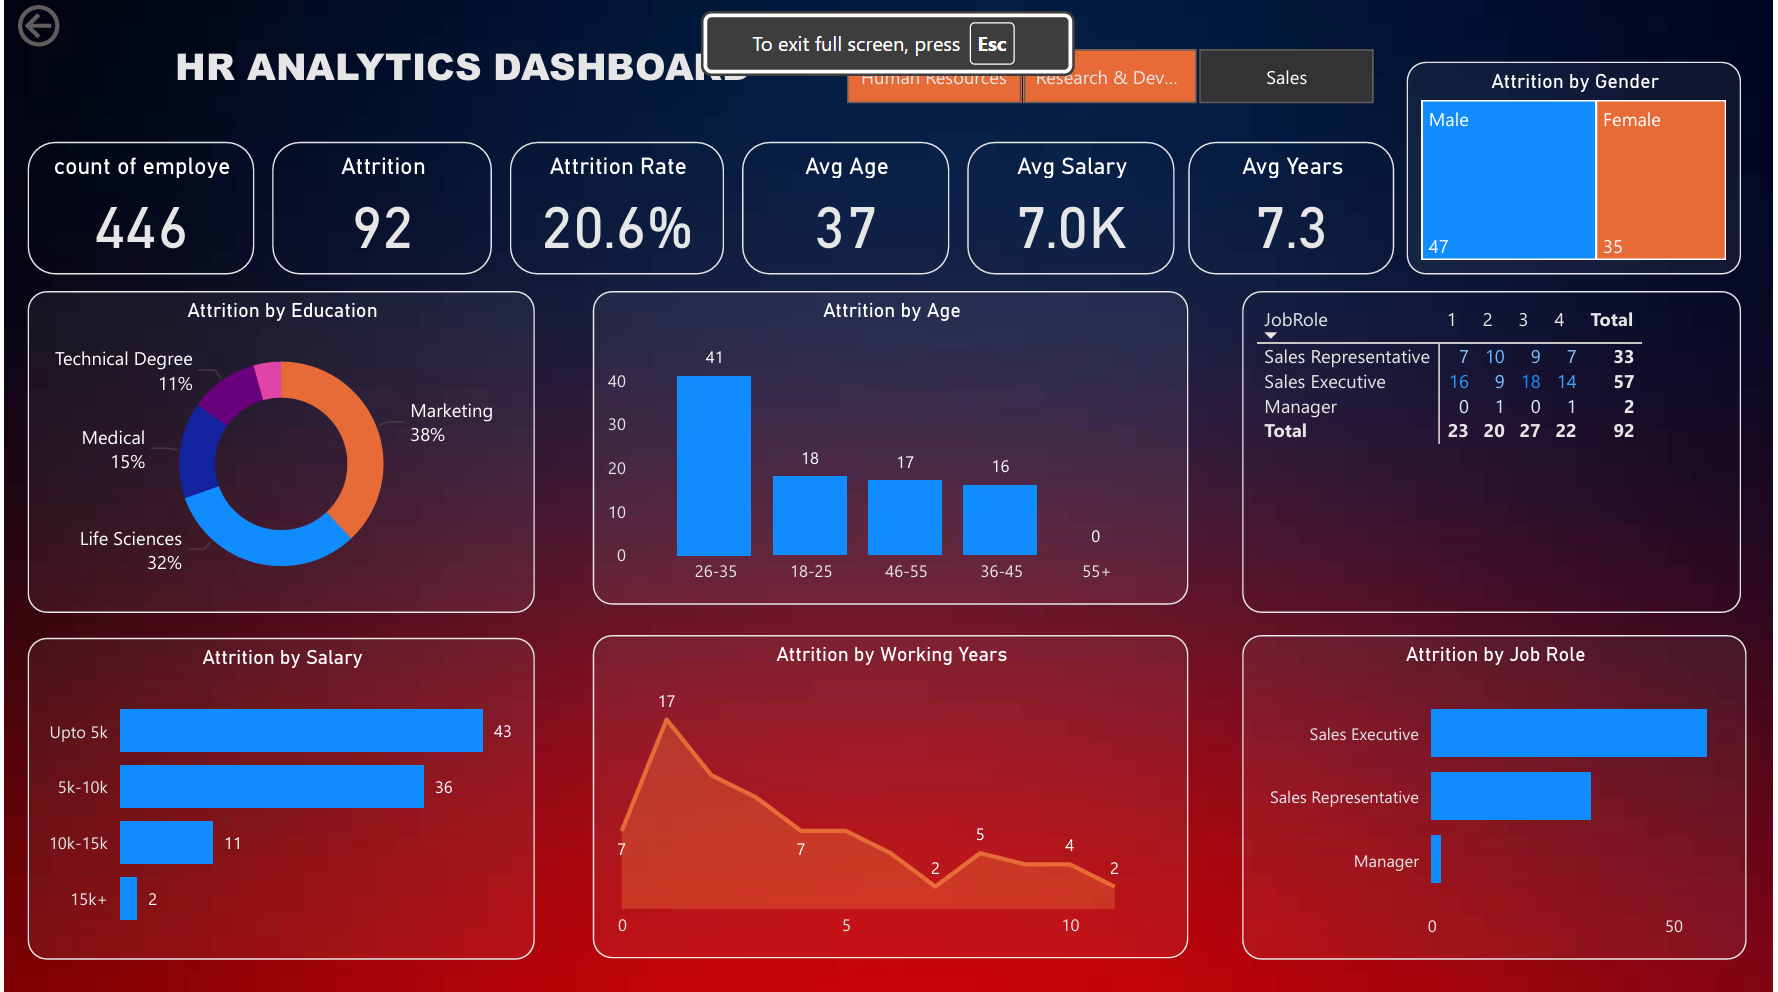

The dashboard page shown, as its layout file describes it:
{"tool":"powerbi","page":{"name":"Page 1","canvas":[1280,720],"ordinal":0},"visuals":[{"type":"card","title":"count of employe","fields":{"Values":["CountNonNull(HR_Analytics.EmpID)"]},"box":[16.9,103.8,164.1,96.5],"z":0},{"type":"card","title":"Attrition","fields":{"Values":["Sum(HR_Analytics.AttritionCount)"]},"box":[194.2,103.8,159.3,96.5],"z":1000},{"type":"card","title":"Attrition Rate","fields":{"Values":["HR_Analytics.AttritionRate"]},"box":[365.6,103.8,155.6,96.5],"z":2000},{"type":"card","title":"Avg Age","fields":{"Values":["Avg(HR_Analytics.Age)"]},"box":[534.5,103.8,149.6,96.5],"z":3000},{"type":"card","title":"Avg Salary","fields":{"Values":["Avg(HR_Analytics.MonthlyIncome)"]},"box":[697.3,103.8,149.6,96.5],"z":4000},{"type":"card","title":"Avg Years","fields":{"Values":["Avg(HR_Analytics.YearsAtCompany)"]},"box":[856.6,103.8,149.6,96.5],"z":5000},{"type":"actionButton","box":[4.8,0,100,40],"z":6000},{"type":"donutChart","title":" Attrition by Education","fields":{"Category":["HR_Analytics.EducationField"],"Y":["Sum(HR_Analytics.AttritionCount)"]},"box":[16.9,212.3,366.8,232.8],"z":7000},{"type":"clusteredColumnChart","title":" Attrition by Age","fields":{"Category":["HR_Analytics.AgeGroup"],"Y":["Sum(HR_Analytics.AttritionCount)"]},"box":[425.9,212.3,430.7,226.8],"z":8000},{"type":"clusteredBarChart","title":" Attrition by Salary","fields":{"Category":["HR_Analytics.SalarySlab"],"Y":["Sum(HR_Analytics.AttritionCount)"]},"box":[16.9,463.3,366.8,232.8],"z":9000},{"type":"pivotTable","fields":{"Rows":["HR_Analytics.JobRole"],"Columns":["HR_Analytics.JobSatisfaction"],"Values":["Sum(HR_Analytics.AttritionCount)"]},"box":[896.4,212.3,360.7,232.8],"z":10000},{"type":"clusteredBarChart","title":" Attrition by Job Role","fields":{"Category":["HR_Analytics.JobRole"],"Y":["Sum(HR_Analytics.AttritionCount)"]},"box":[896.4,460.9,364.3,235.3],"z":11000},{"type":"areaChart","title":" Attrition by Working Years","fields":{"Category":["HR_Analytics.YearsAtCompany"],"Y":["Sum(HR_Analytics.AttritionCount)"]},"box":[425.9,460.9,430.7,234],"z":12000},{"type":"treemap","title":" Attrition by Gender","fields":{"Group":["HR_Analytics.Gender"],"Values":["Sum(HR_Analytics.AttritionCount)"]},"box":[1014.6,45.8,242.5,154.4],"z":13000},{"type":"slicer","fields":{"Values":["HR_Analytics.Department"]},"box":[583.9,30.2,430.7,53.1],"z":14000},{"type":"textbox","box":[54.3,30.2,556.2,53.1],"z":15000}]}

Visuals, with their boxes in screenshot pixels (x1, y1, x2, y2), scaled from the page's 1280x720 canvas onto the 1778x992 screenshot:
"count of employe" card: l=23, t=143, r=251, b=276
"Attrition" card: l=270, t=143, r=491, b=276
"Attrition Rate" card: l=508, t=143, r=724, b=276
"Avg Age" card: l=742, t=143, r=950, b=276
"Avg Salary" card: l=969, t=143, r=1176, b=276
"Avg Years" card: l=1190, t=143, r=1398, b=276
actionButton: l=7, t=0, r=146, b=55
" Attrition by Education" donutChart: l=23, t=293, r=533, b=613
" Attrition by Age" clusteredColumnChart: l=592, t=293, r=1190, b=605
" Attrition by Salary" clusteredBarChart: l=23, t=638, r=533, b=959
pivotTable - HR_Analytics.JobRole x HR_Analytics.JobSatisfaction: l=1245, t=293, r=1746, b=613
" Attrition by Job Role" clusteredBarChart: l=1245, t=635, r=1751, b=959
" Attrition by Working Years" areaChart: l=592, t=635, r=1190, b=957
" Attrition by Gender" treemap: l=1409, t=63, r=1746, b=276
slicer - HR_Analytics.Department: l=811, t=42, r=1409, b=115
textbox: l=75, t=42, r=848, b=115
